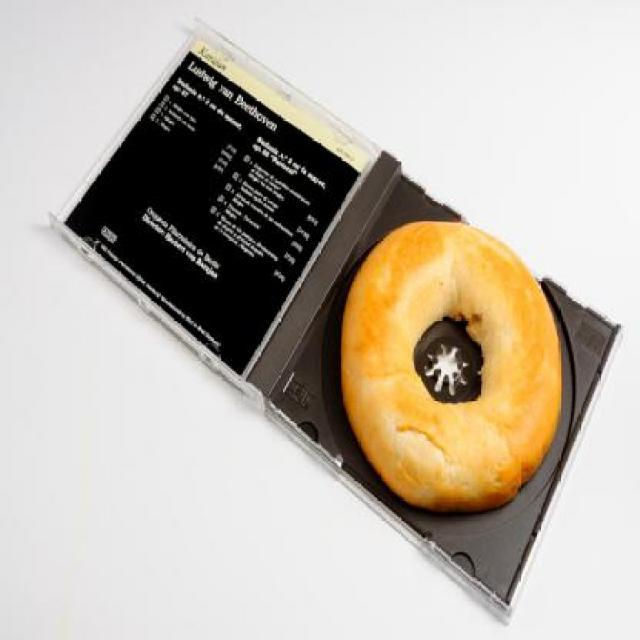Bagel: (341, 218, 561, 514)
